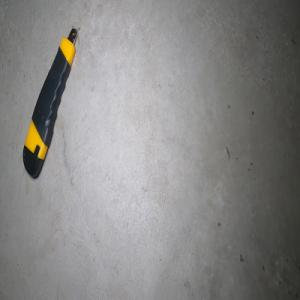Cutter: (22, 26, 78, 178)
